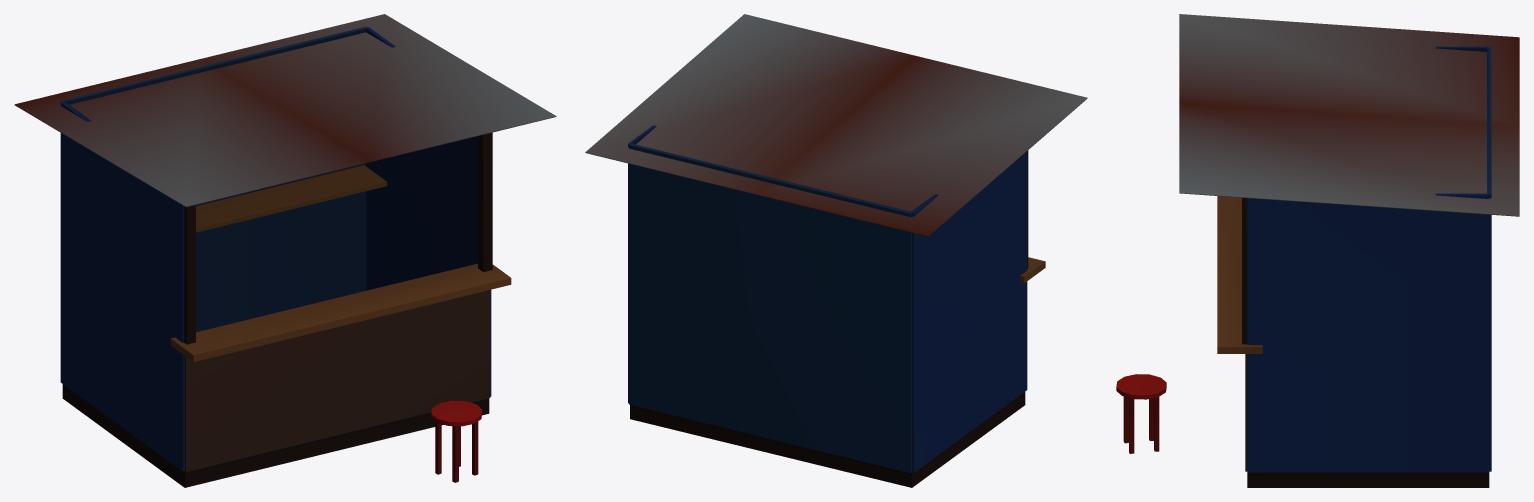
Rendered from mk_stall_wood_lod1.glb.
The picture shows the model from 3 angles, left to right: view 1: azimuth 30°, elevation 25°; view 2: azimuth 150°, elevation 25°; view 3: azimuth 270°, elevation 25°; orthographic projection. The views are drawn at different scales.
Visible parts, largest first — view 1: mk_stall_wood_lod1; view 2: mk_stall_wood_lod1; view 3: mk_stall_wood_lod1.
Part boxes in pixels (<box>): mk_stall_wood_lod1: <box>14,14,556,487</box>; mk_stall_wood_lod1: <box>585,14,1087,487</box>; mk_stall_wood_lod1: <box>1116,14,1519,487</box>.
Bounding box in the file's own units: 2.8 × 2.27 × 2.67.
